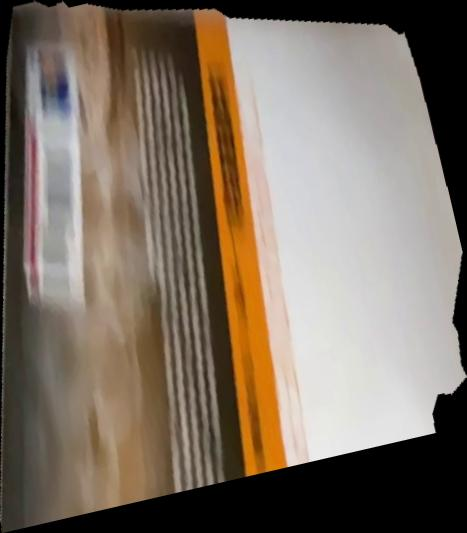flat: (1, 1, 467, 533)
